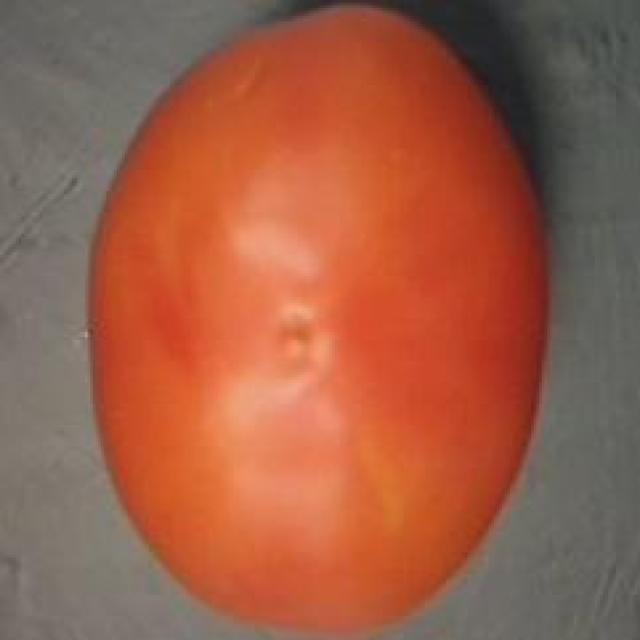ripe tomato: (74, 2, 557, 640)
